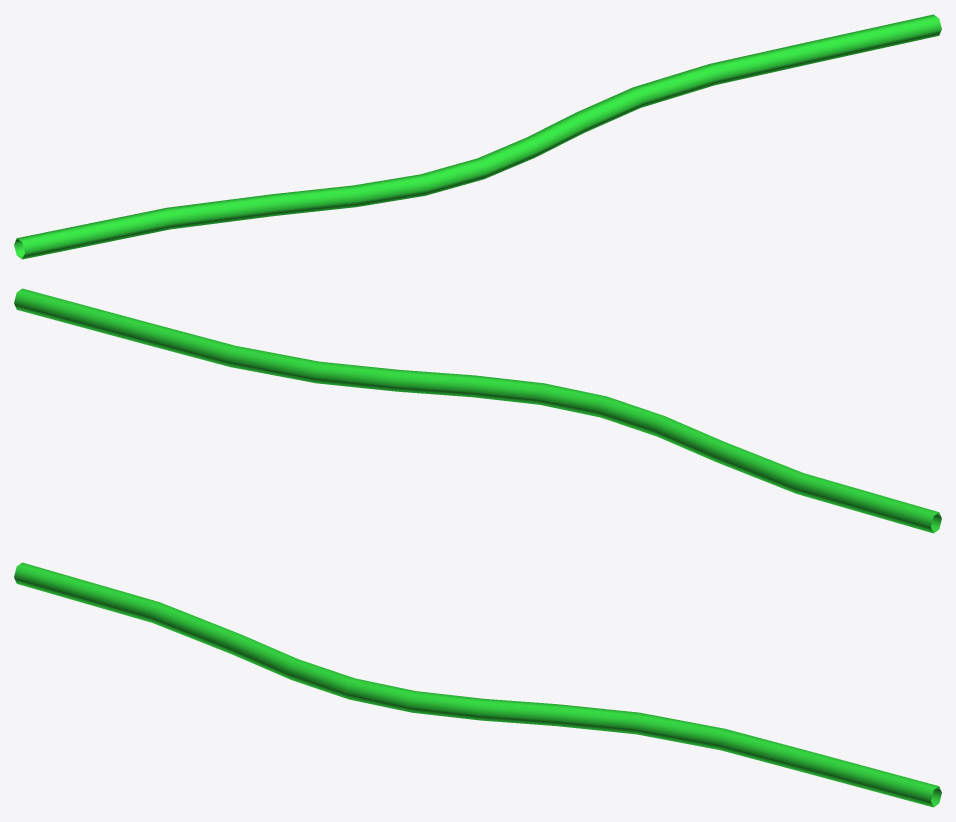
Rendered from Wire_02_B.fbx.
3 views of the same model, one above another, from view 1: azimuth 30°, elevation 25°; view 2: azimuth 150°, elevation 25°; view 3: azimuth 330°, elevation 25° (orthographic).
Parts seen in each view (by area): view 1: Wire_02_B; view 2: Wire_02_B; view 3: Wire_02_B.
Boxes of the visible parts, x1=… form: Wire_02_B: x1=14, y1=14, x2=941, y2=259; Wire_02_B: x1=14, y1=288, x2=941, y2=533; Wire_02_B: x1=14, y1=562, x2=941, y2=807.
Bounding box in the file's own units: 122 × 2.2 × 11.95.
